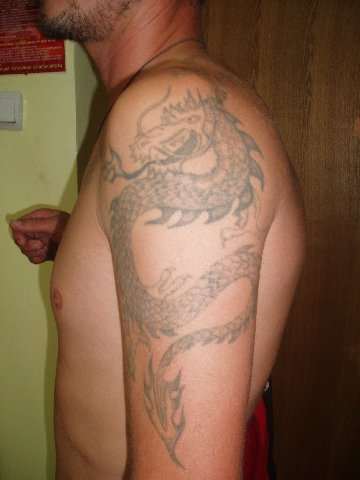tatu6_drakon: (98, 57, 284, 470)
